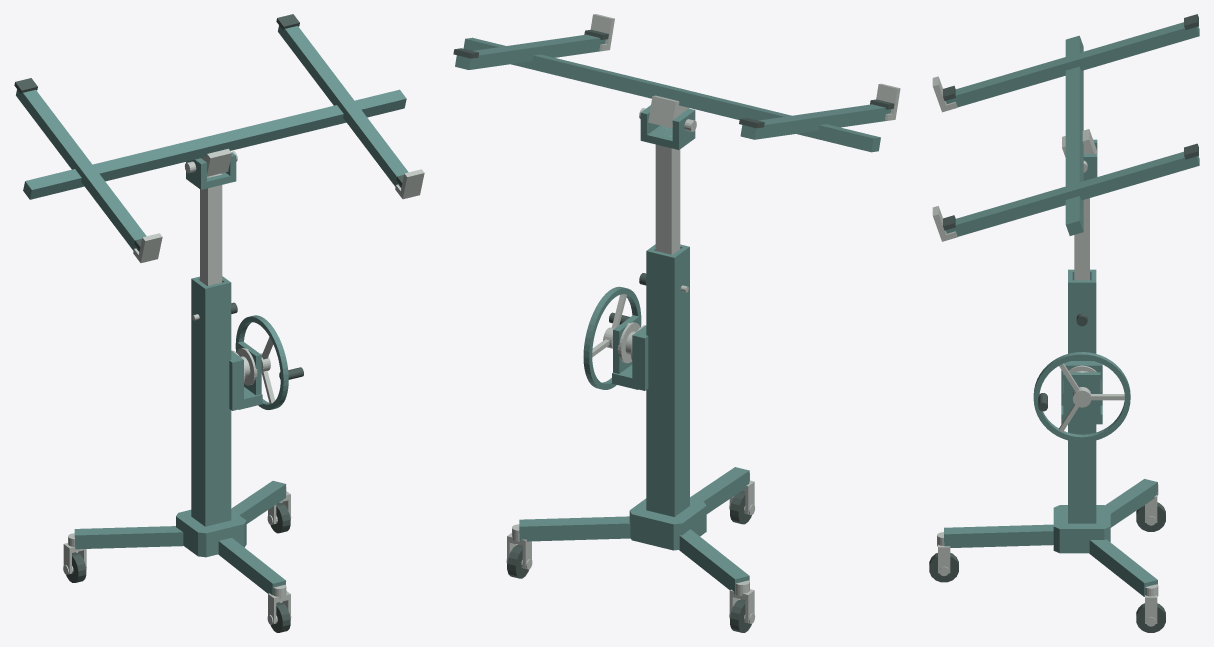
3 renders of one model, left to right at view 1: azimuth 30°, elevation 25°; view 2: azimuth 150°, elevation 25°; view 3: azimuth 270°, elevation 25°, orthographic. The views are drawn at different scales.
Visible parts, largest first — view 1: WholeOuterBoredMast, WholeFullTransverseCradleSpine, WholeCradleCrossRail1, WholeCradleCrossRail-1, WholeInsetRaisedInnerMast, WholeLowOutrigger2, WholeCentralBaseBlock, WholeLowOutrigger0, WholeSideWinchBracket, WholeLargeHandwheelRim, WholeLowOutrigger1, WholeTopOpenClevis (+3 smaller); view 2: WholeOuterBoredMast, WholeFullTransverseCradleSpine, WholeInsetRaisedInnerMast, WholeCentralBaseBlock, WholeCradleCrossRail1, WholeCradleCrossRail-1, WholeLowOutrigger1, WholeSideWinchBracket, WholeLowOutrigger2, WholeLargeHandwheelRim, WholeTopOpenClevis, WholeLowOutrigger0 (+1 smaller); view 3: WholeOuterBoredMast, WholeCradleCrossRail1, WholeCradleCrossRail-1, WholeFullTransverseCradleSpine, WholeLowOutrigger0, WholeLargeHandwheelRim, WholeCentralBaseBlock, WholeSideWinchBracket, WholeLowOutrigger1, WholeLowOutrigger2, WholeInsetRaisedInnerMast, WholeCasterTire0 (+2 smaller).
Boxes of the visible parts, x1=… form: WholeOuterBoredMast: x1=191, y1=276, x2=231, y2=526; WholeFullTransverseCradleSpine: x1=23, y1=89, x2=406, y2=199; WholeCradleCrossRail1: x1=278, y1=25, x2=408, y2=187; WholeCradleCrossRail-1: x1=16, y1=89, x2=146, y2=251; WholeInsetRaisedInnerMast: x1=200, y1=173, x2=222, y2=285; WholeLowOutrigger2: x1=74, y1=526, x2=183, y2=549; WholeCentralBaseBlock: x1=176, y1=509, x2=246, y2=557; WholeLowOutrigger0: x1=218, y1=538, x2=285, y2=595; WholeSideWinchBracket: x1=229, y1=341, x2=262, y2=410; WholeLargeHandwheelRim: x1=235, y1=315, x2=288, y2=409; WholeLowOutrigger1: x1=231, y1=481, x2=286, y2=523; WholeTopOpenClevis: x1=186, y1=152, x2=236, y2=189; WholeOuterBoredMast: x1=646, y1=244, x2=689, y2=516; WholeFullTransverseCradleSpine: x1=463, y1=37, x2=880, y2=152; WholeInsetRaisedInnerMast: x1=655, y1=128, x2=680, y2=254; WholeCentralBaseBlock: x1=629, y1=498, x2=706, y2=550; WholeCradleCrossRail1: x1=455, y1=34, x2=605, y2=69; WholeCradleCrossRail-1: x1=740, y1=104, x2=891, y2=139; WholeLowOutrigger1: x1=519, y1=516, x2=630, y2=541; WholeSideWinchBracket: x1=612, y1=315, x2=648, y2=390; WholeLowOutrigger2: x1=679, y1=529, x2=749, y2=593; WholeLargeHandwheelRim: x1=583, y1=286, x2=641, y2=389; WholeTopOpenClevis: x1=640, y1=105, x2=695, y2=149; WholeLowOutrigger0: x1=690, y1=467, x2=749, y2=513; WholeOuterBoredMast: x1=1068, y1=269, x2=1096, y2=523; WholeCradleCrossRail1: x1=945, y1=151, x2=1199, y2=236; WholeCradleCrossRail-1: x1=945, y1=22, x2=1199, y2=107; WholeFullTransverseCradleSpine: x1=1065, y1=35, x2=1083, y2=235; WholeLowOutrigger0: x1=944, y1=524, x2=1053, y2=547; WholeLargeHandwheelRim: x1=1033, y1=352, x2=1130, y2=442; WholeCentralBaseBlock: x1=1053, y1=505, x2=1110, y2=553; WholeSideWinchBracket: x1=1061, y1=361, x2=1102, y2=424; WholeLowOutrigger1: x1=1089, y1=539, x2=1157, y2=596; WholeLowOutrigger2: x1=1105, y1=479, x2=1157, y2=527; WholeInsetRaisedInnerMast: x1=1074, y1=198, x2=1089, y2=280; WholeCasterTire0: x1=929, y1=553, x2=958, y2=582.
Size of the model in its own units: 2.16 by 2.71 by 1.33.
